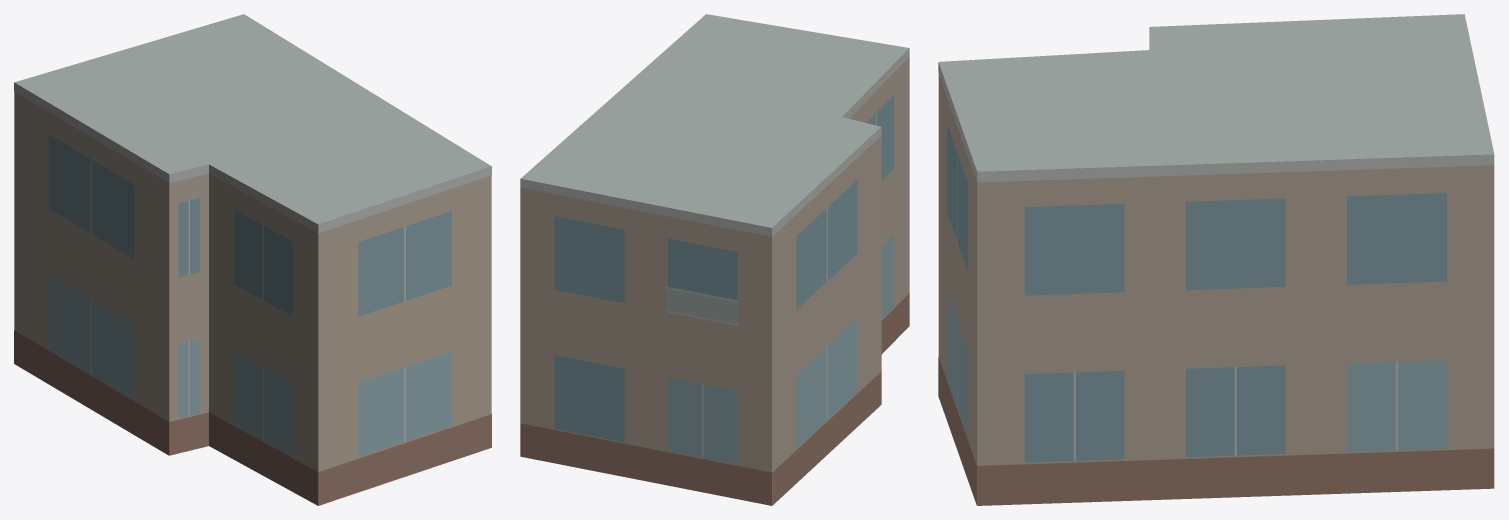
File: survey-upis-32933640.glb
The picture shows the model from 3 angles, left to right: view 1: azimuth 30°, elevation 25°; view 2: azimuth 150°, elevation 25°; view 3: azimuth 270°, elevation 25°; orthographic projection. The views are drawn at different scales.
Parts seen in each view (by area): view 1: survey-upis-32933640.tmp; view 2: survey-upis-32933640.tmp; view 3: survey-upis-32933640.tmp.
Boxes of the visible parts, x1,y1,x2,y2 form: survey-upis-32933640.tmp: [14, 14, 491, 505]; survey-upis-32933640.tmp: [520, 14, 909, 505]; survey-upis-32933640.tmp: [938, 14, 1494, 505].
Bounding box in the file's own units: 7.7 × 7.6 × 11.47.
